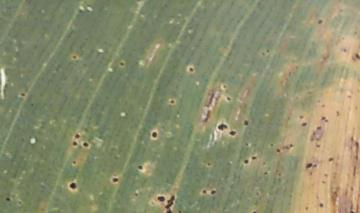tarspot: (165, 196, 175, 207), (216, 122, 228, 131), (228, 129, 238, 137), (305, 161, 313, 170), (158, 194, 166, 203), (150, 130, 158, 138), (326, 154, 334, 162), (69, 181, 77, 189), (118, 60, 126, 67), (225, 94, 232, 102), (317, 201, 325, 208), (136, 163, 143, 171), (112, 176, 120, 183), (3, 195, 11, 202), (261, 169, 269, 176), (315, 123, 322, 131), (81, 141, 90, 147), (243, 118, 249, 127), (248, 154, 257, 160), (204, 161, 213, 167), (335, 109, 341, 118), (73, 132, 80, 139), (243, 158, 250, 165), (210, 188, 217, 195), (322, 171, 329, 178), (70, 54, 78, 60), (300, 121, 308, 127), (19, 91, 26, 97), (168, 98, 175, 104), (188, 66, 194, 73), (222, 82, 228, 89), (265, 47, 271, 54), (317, 18, 323, 25), (353, 53, 360, 59), (320, 115, 327, 121), (133, 192, 140, 198), (297, 114, 305, 119), (71, 159, 77, 165), (276, 148, 282, 154), (288, 142, 294, 148), (342, 47, 348, 53), (269, 141, 275, 147), (315, 143, 321, 149), (71, 141, 78, 146), (320, 179, 327, 184), (321, 102, 326, 109), (313, 161, 318, 168), (202, 188, 207, 194), (245, 140, 249, 147), (348, 210, 355, 213), (177, 209, 182, 213), (167, 209, 172, 213), (305, 206, 309, 211)
